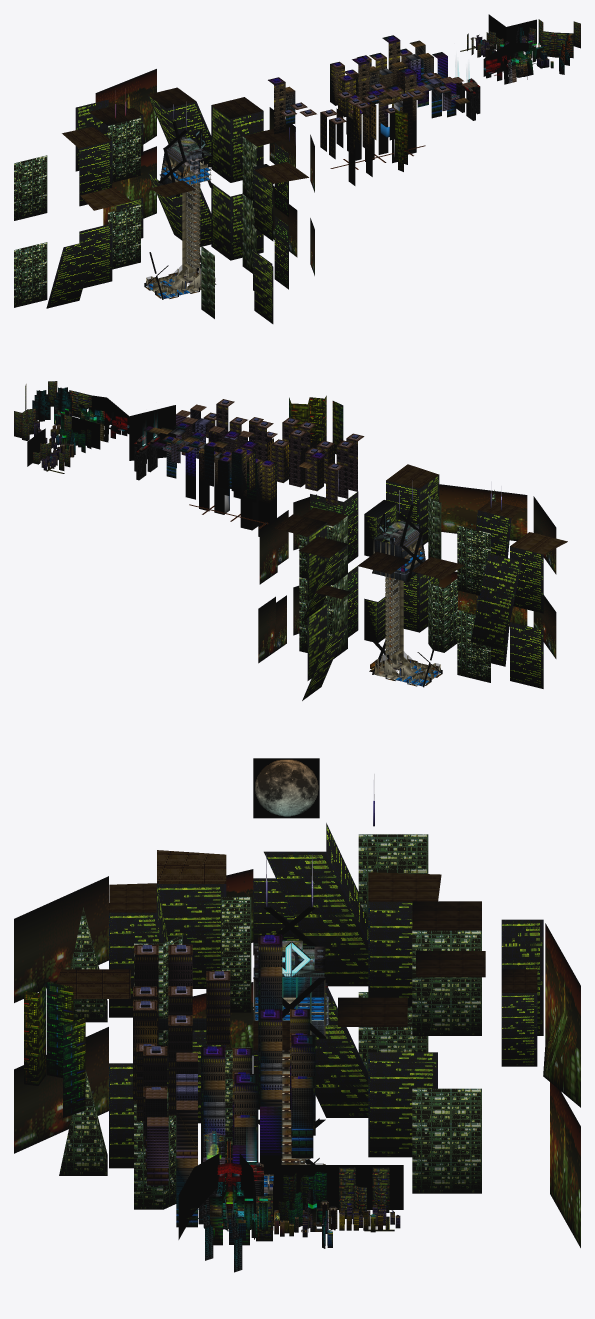
Rendered from dataDyneCentralDefection.glb.
3 views of the same model, one above another, from view 1: azimuth 30°, elevation 25°; view 2: azimuth 150°, elevation 25°; view 3: azimuth 270°, elevation 25° (orthographic). The views are drawn at different scales.
Visible parts, largest first — view 1: dataDyneCentralDefection_31, dataDyneCentralDefection_22, dataDyneCentralDefection_27, dataDyneCentralDefection_34, dataDyneCentralDefection_105, dataDyneCentralDefection_109, dataDyneCentralDefection_40, dataDyneCentralDefection_95, dataDyneCentralDefection_96, dataDyneCentralDefection_25, dataDyneCentralDefection_32, dataDyneCentralDefection_120 (+11 smaller); view 2: dataDyneCentralDefection_31, dataDyneCentralDefection_22, dataDyneCentralDefection_27, dataDyneCentralDefection_25, dataDyneCentralDefection_40, dataDyneCentralDefection_109, dataDyneCentralDefection_95, dataDyneCentralDefection_105, dataDyneCentralDefection_30, dataDyneCentralDefection_120, dataDyneCentralDefection_96, dataDyneCentralDefection_32 (+11 smaller); view 3: dataDyneCentralDefection_31, dataDyneCentralDefection_22, dataDyneCentralDefection_27, dataDyneCentralDefection_25, dataDyneCentralDefection_34, dataDyneCentralDefection_95, dataDyneCentralDefection_109, dataDyneCentralDefection_105, dataDyneCentralDefection_40, dataDyneCentralDefection_0, dataDyneCentralDefection_96, dataDyneCentralDefection_104 (+10 smaller).
Part boxes in pixels (x1,y1,x2,y2): dataDyneCentralDefection_31: (46, 95, 273, 323); dataDyneCentralDefection_22: (14, 118, 256, 318); dataDyneCentralDefection_27: (62, 39, 552, 210); dataDyneCentralDefection_34: (95, 69, 156, 225); dataDyneCentralDefection_105: (274, 35, 534, 154); dataDyneCentralDefection_109: (274, 33, 534, 159); dataDyneCentralDefection_40: (144, 14, 536, 296); dataDyneCentralDefection_95: (395, 19, 580, 171); dataDyneCentralDefection_96: (268, 32, 546, 124); dataDyneCentralDefection_25: (269, 107, 314, 275); dataDyneCentralDefection_32: (274, 143, 288, 289); dataDyneCentralDefection_120: (410, 27, 570, 120); dataDyneCentralDefection_31: (302, 475, 543, 700); dataDyneCentralDefection_22: (299, 490, 495, 682); dataDyneCentralDefection_27: (49, 404, 567, 598); dataDyneCentralDefection_25: (258, 494, 556, 663); dataDyneCentralDefection_40: (27, 395, 442, 683); dataDyneCentralDefection_109: (34, 404, 357, 506); dataDyneCentralDefection_95: (14, 381, 343, 470); dataDyneCentralDefection_105: (34, 409, 357, 502); dataDyneCentralDefection_30: (439, 484, 527, 626); dataDyneCentralDefection_120: (32, 387, 205, 480); dataDyneCentralDefection_96: (34, 399, 364, 470); dataDyneCentralDefection_32: (310, 491, 358, 637); dataDyneCentralDefection_31: (109, 823, 543, 1168); dataDyneCentralDefection_22: (59, 834, 481, 1209); dataDyneCentralDefection_27: (56, 850, 537, 1232); dataDyneCentralDefection_25: (14, 876, 108, 1153); dataDyneCentralDefection_34: (192, 869, 580, 1247); dataDyneCentralDefection_95: (24, 982, 389, 1241); dataDyneCentralDefection_109: (133, 945, 386, 1245); dataDyneCentralDefection_105: (133, 953, 386, 1226); dataDyneCentralDefection_40: (178, 1135, 403, 1239); dataDyneCentralDefection_0: (253, 758, 319, 818); dataDyneCentralDefection_96: (133, 934, 396, 1231); dataDyneCentralDefection_104: (176, 976, 400, 1228).
Bounding box in the file's own units: 4331 × 1487 × 2139.
Materials: 150 (150 with a texture image).
